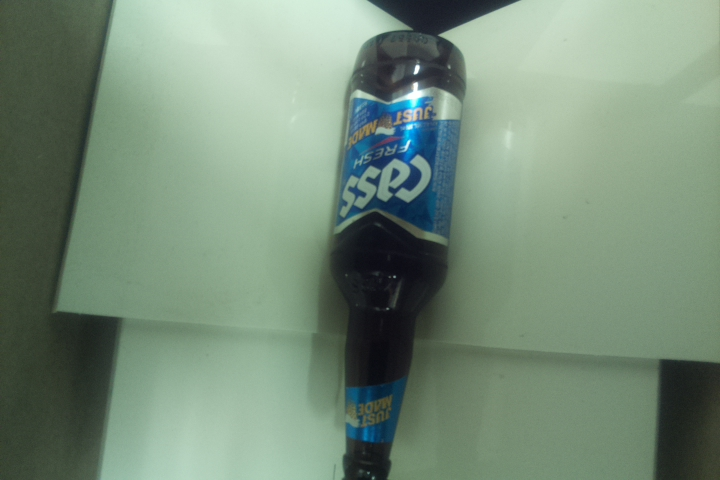makju: (326, 29, 467, 480)
